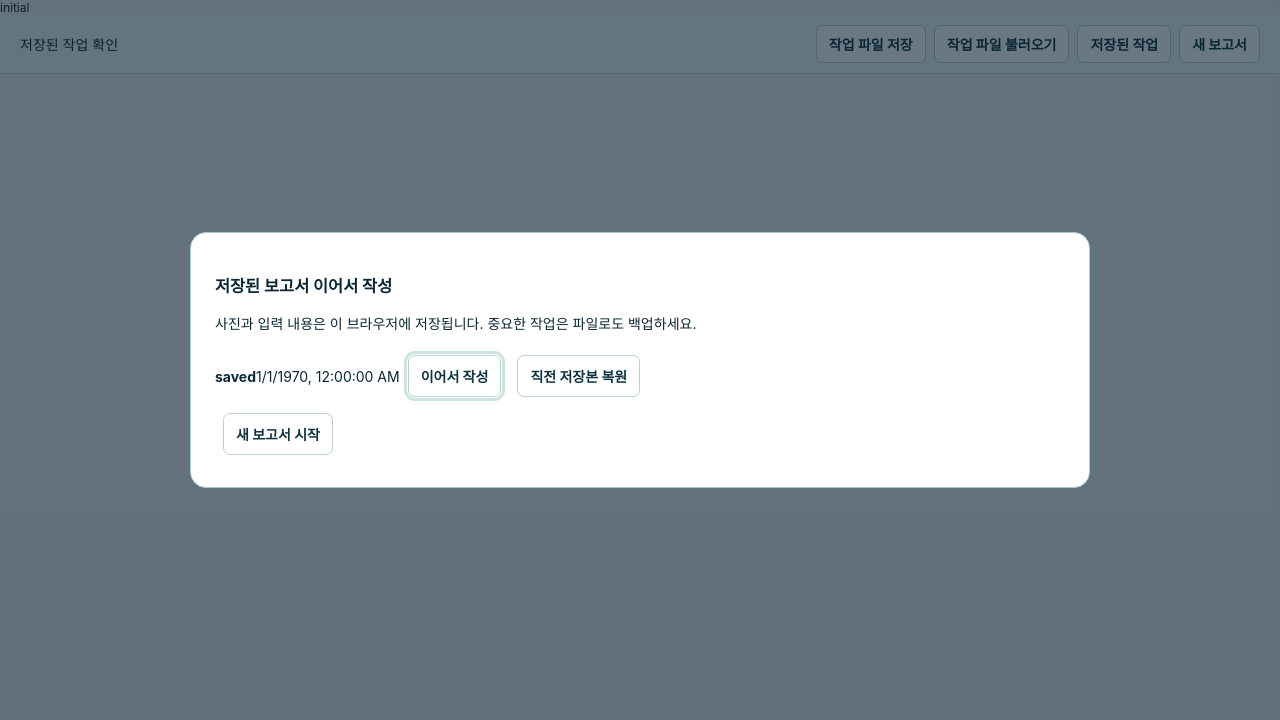
Test: restoring the previous version intentionally writes a new revision
Click the button "직전 저장본 복원" at (579, 376), box x1=517 y1=355 x2=640 y2=397
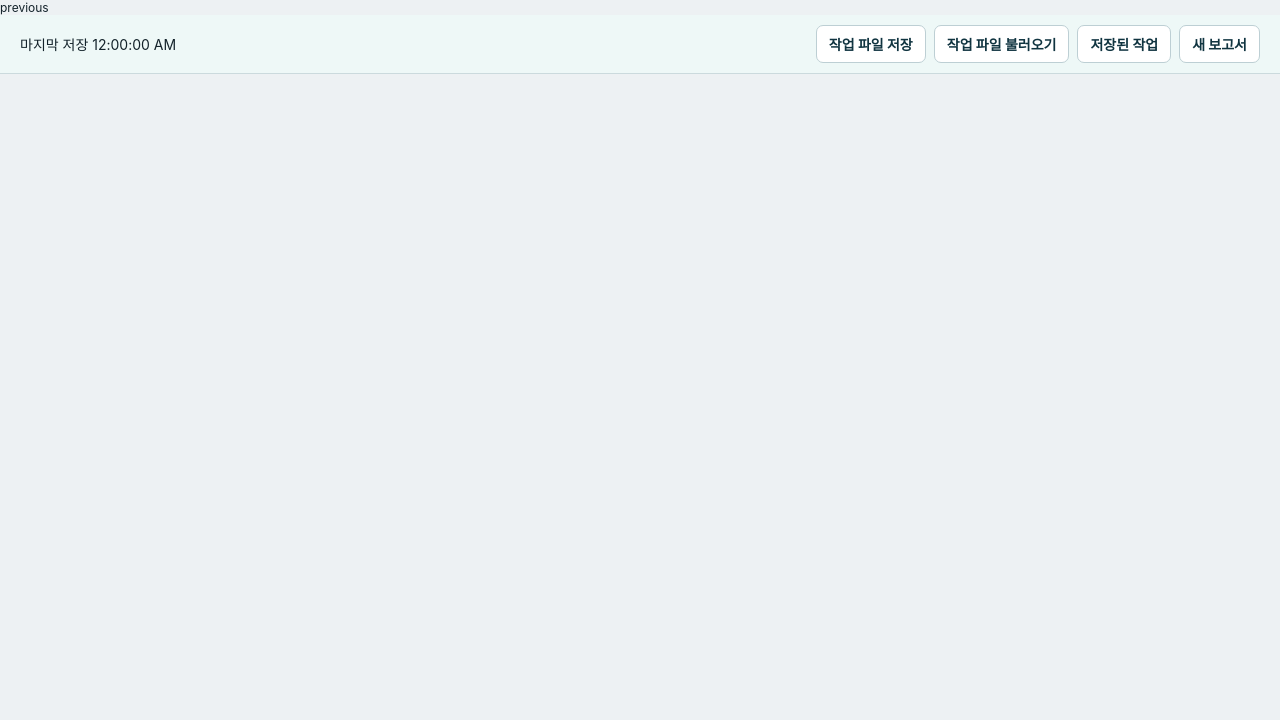
Now the text "previous" is shown, box x1=0 y1=0 x2=49 y2=15
